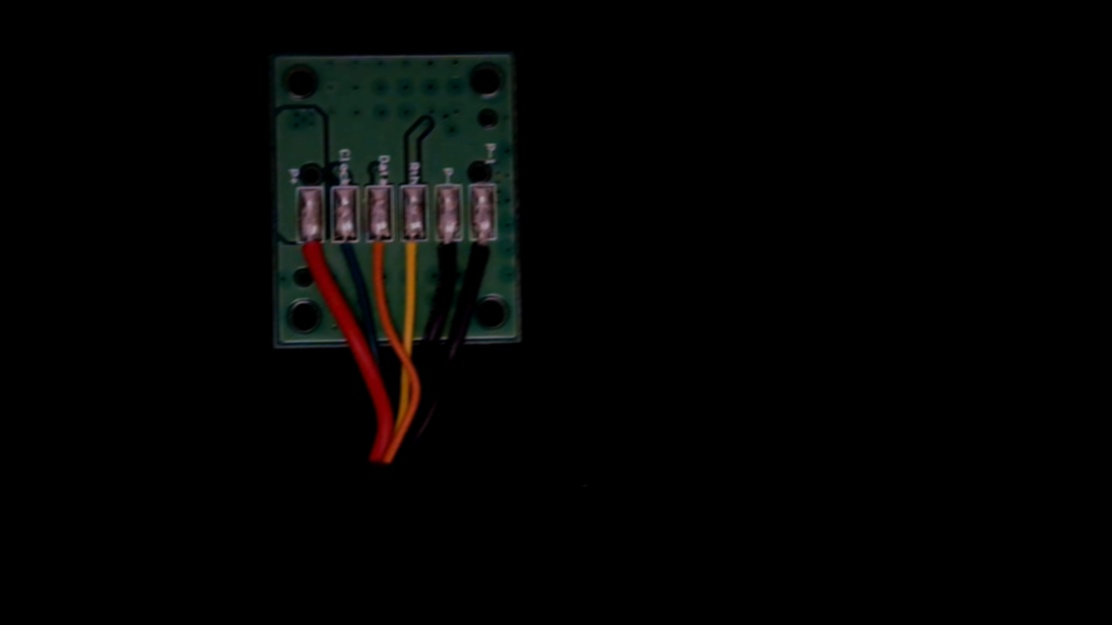Black: (432, 226, 463, 290)
Black1: (469, 225, 499, 284)
Green: (333, 224, 361, 278)
Orange: (365, 224, 394, 287)
Red: (297, 223, 328, 281)
Yellow: (400, 225, 430, 290)
